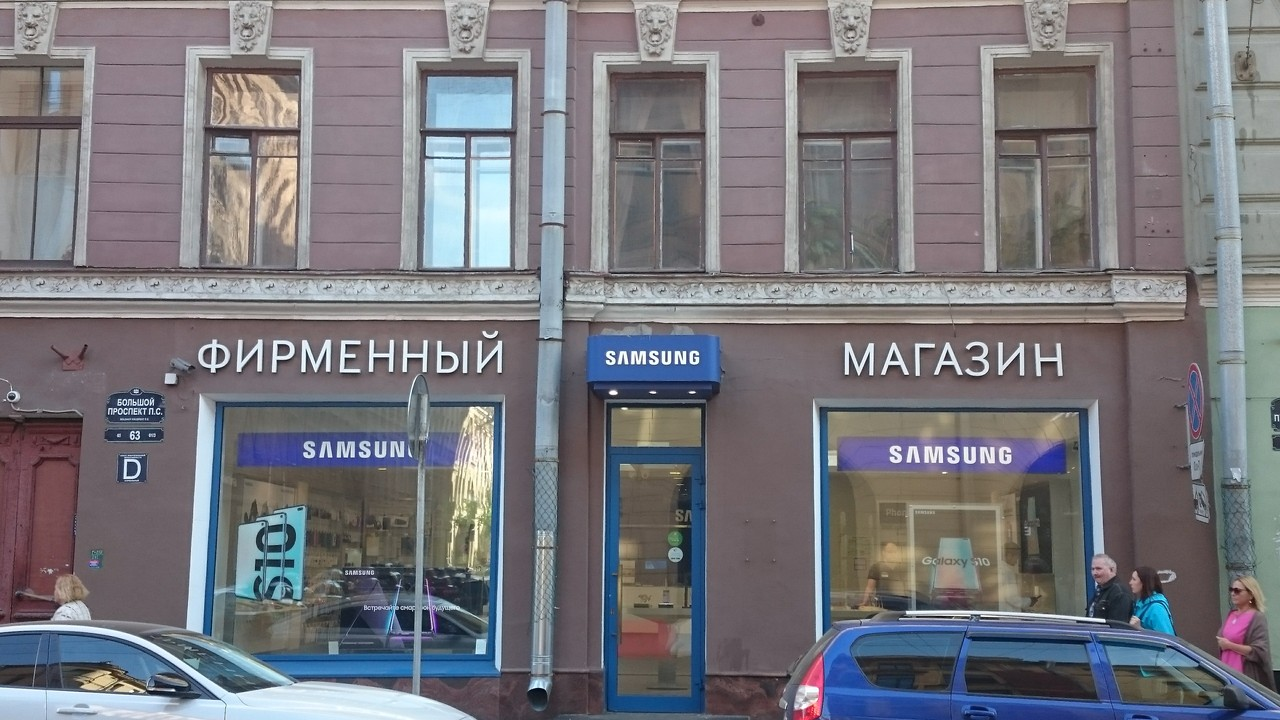door: (609, 454, 707, 716)
signboard: (201, 338, 504, 377), (837, 340, 1067, 383), (592, 334, 722, 380)
window: (199, 397, 496, 662), (814, 407, 1099, 618), (994, 67, 1098, 276), (604, 65, 707, 272), (798, 67, 902, 272), (199, 67, 302, 270), (415, 69, 515, 270), (1, 68, 82, 268)
